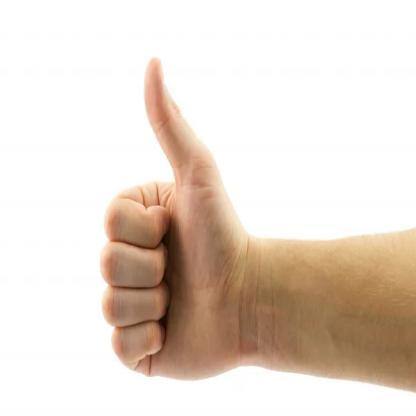thumb_up: (99, 52, 246, 384)
